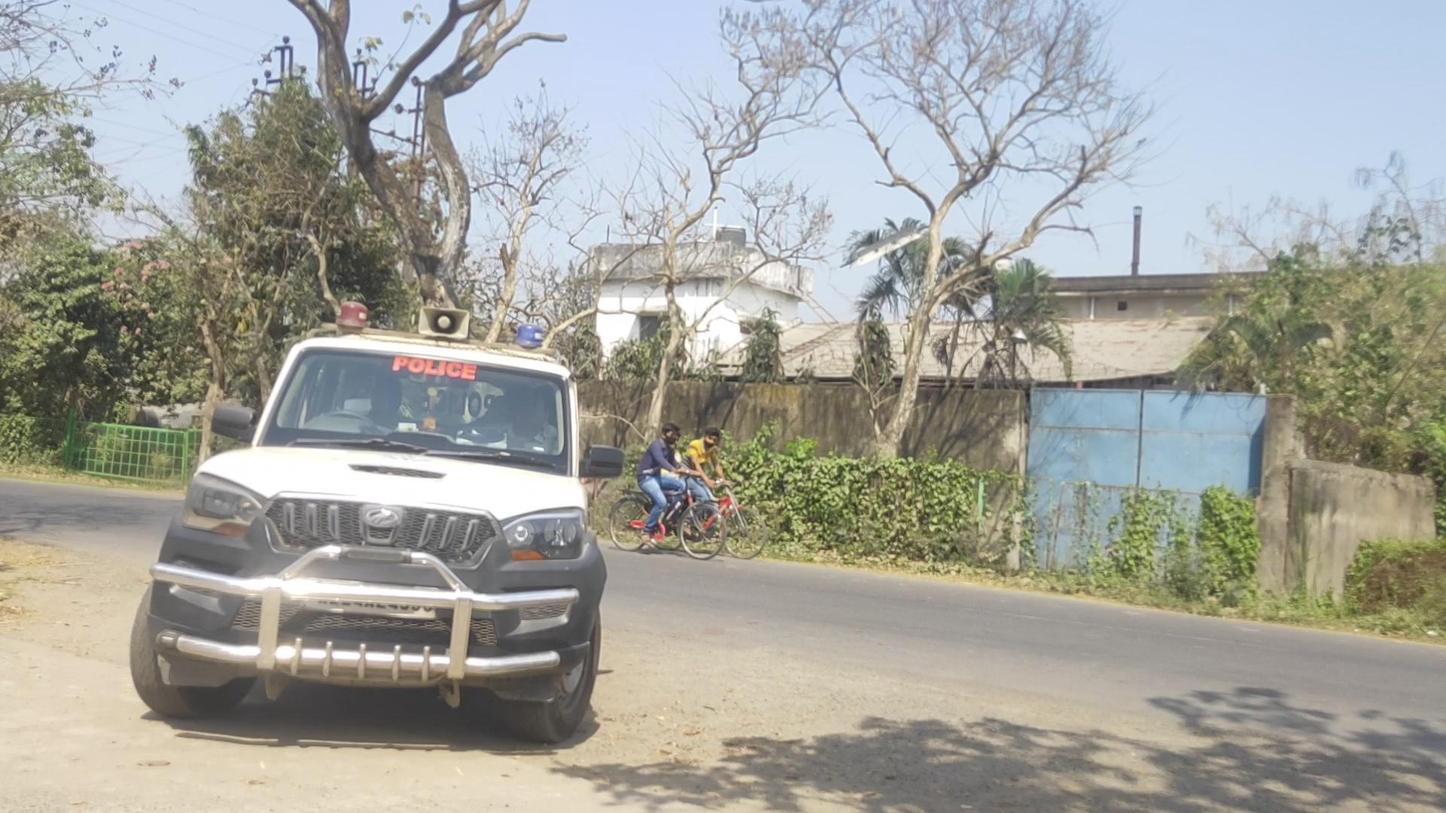bike: (641, 427, 767, 559), (608, 422, 727, 561)
car: (129, 303, 624, 743)
